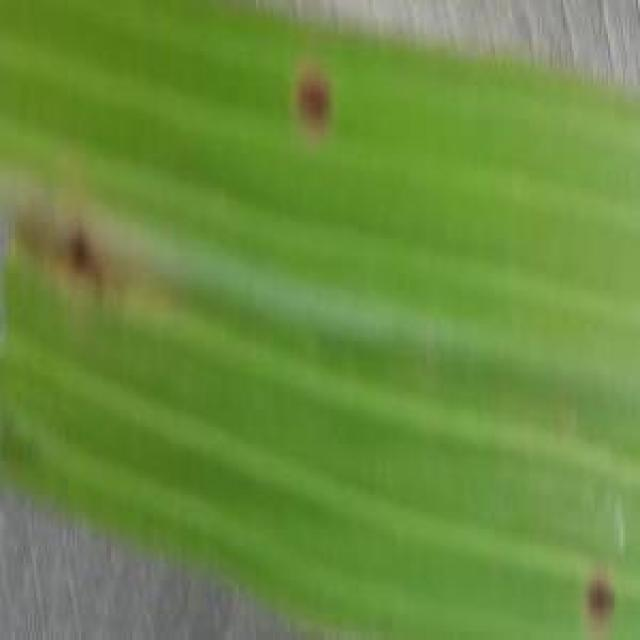brownspots: (28, 213, 120, 294), (273, 58, 348, 134), (568, 563, 632, 627)
